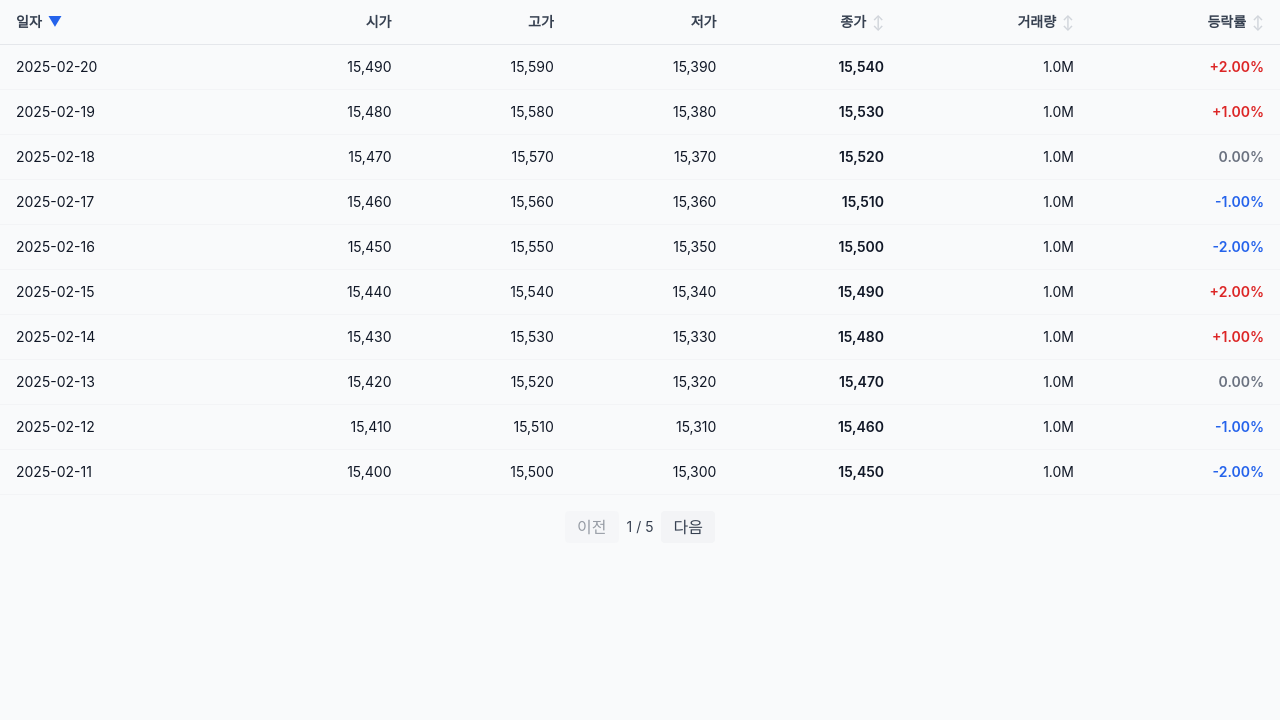
PriceTable › 페이지네이션 › 다음 버튼을 클릭하면 다음 페이지로 이동한다
Click the button "다음" at (688, 527), box [662,511,715,543]
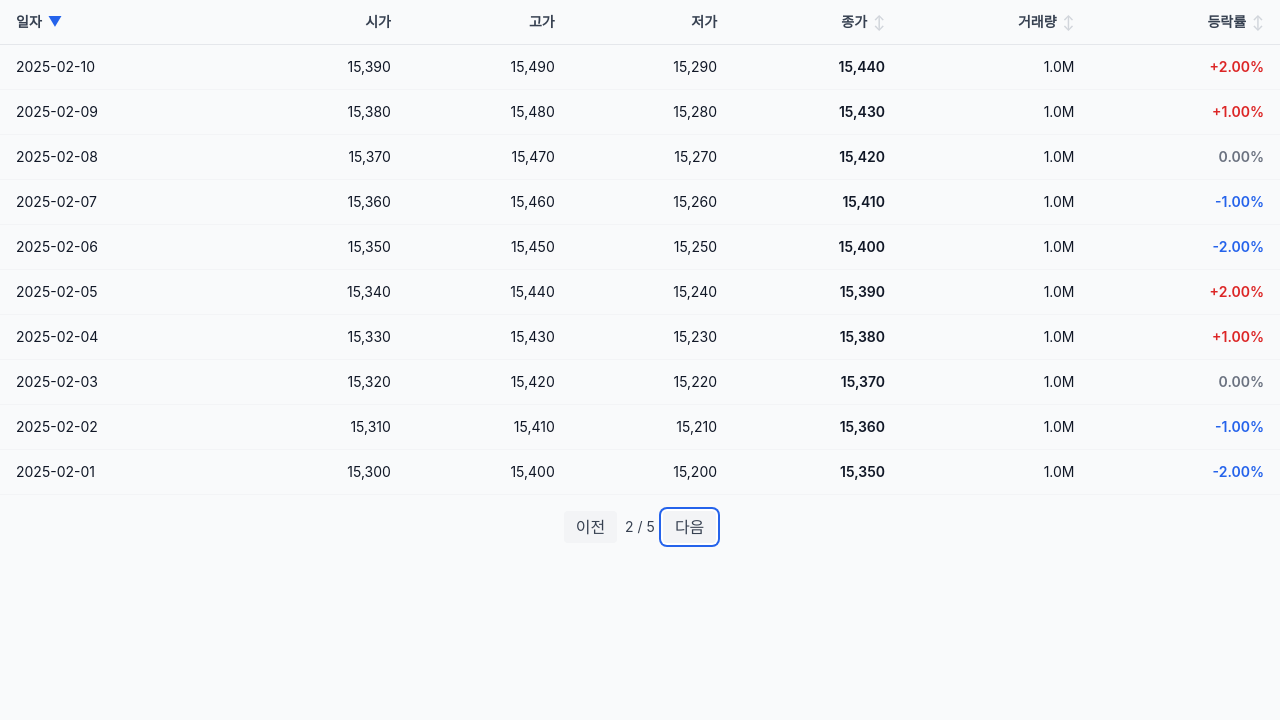
Check: the text "2 / 5" is shown, box [625,517,655,537]
